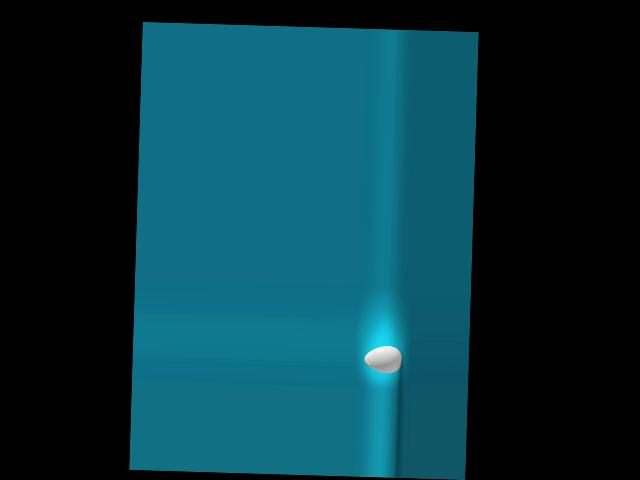egg: (364, 345, 402, 374)
